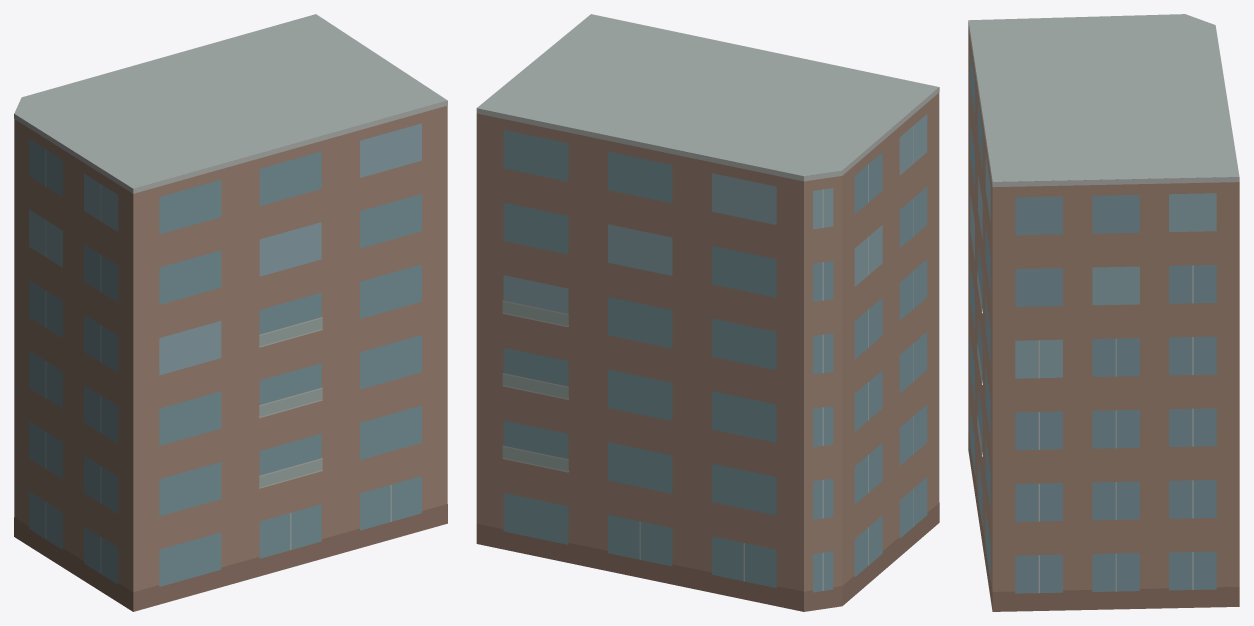
File: survey-upis-32732774.glb
3 renders of one model, left to right at view 1: azimuth 30°, elevation 25°; view 2: azimuth 150°, elevation 25°; view 3: azimuth 270°, elevation 25°, orthographic. The views are drawn at different scales.
Visible parts, largest first — view 1: survey-upis-32732774.tmp; view 2: survey-upis-32732774.tmp; view 3: survey-upis-32732774.tmp.
Boxes of the visible parts, x1,y1,x2,y2 form: survey-upis-32732774.tmp: [14, 14, 447, 611]; survey-upis-32732774.tmp: [476, 14, 939, 611]; survey-upis-32732774.tmp: [968, 14, 1239, 611].
Bounding box in the file's own units: 17.02 × 20.3 × 11.61.
